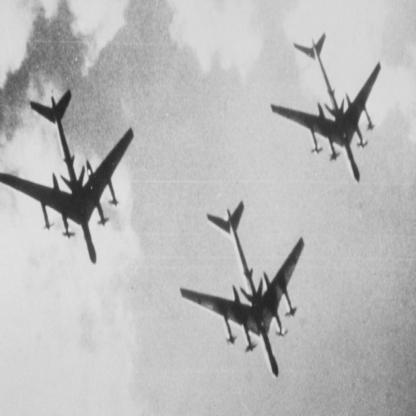Tu95: (1, 89, 135, 265), (180, 201, 306, 379), (271, 32, 383, 184)
